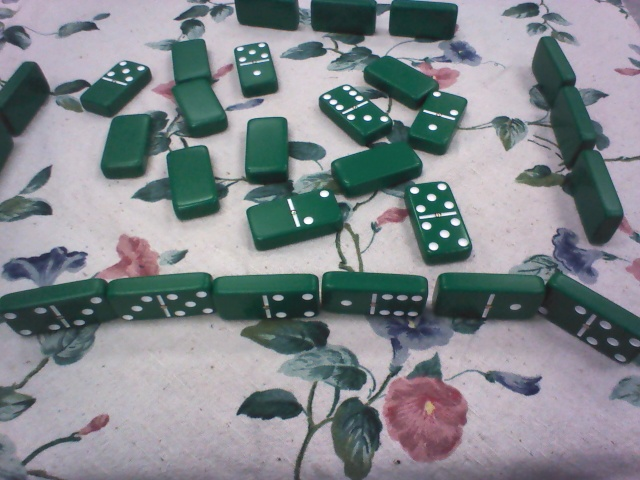A: (360, 49, 442, 105), (329, 141, 422, 189), (167, 145, 225, 220), (99, 115, 154, 178), (169, 80, 228, 135), (245, 118, 292, 181), (164, 34, 213, 85)
B: (246, 186, 348, 249), (404, 182, 478, 259), (312, 82, 394, 147), (80, 58, 152, 112), (413, 87, 466, 155), (226, 44, 285, 97)
C: (1, 60, 51, 134), (4, 113, 12, 176)
D: (565, 150, 623, 243), (543, 87, 606, 166), (528, 33, 581, 99)
E: (546, 266, 640, 364), (433, 271, 545, 329), (2, 281, 110, 337), (323, 268, 430, 323), (215, 273, 325, 322), (109, 279, 215, 320)
F: (389, 1, 461, 42), (310, 1, 380, 38), (230, 1, 304, 32)
